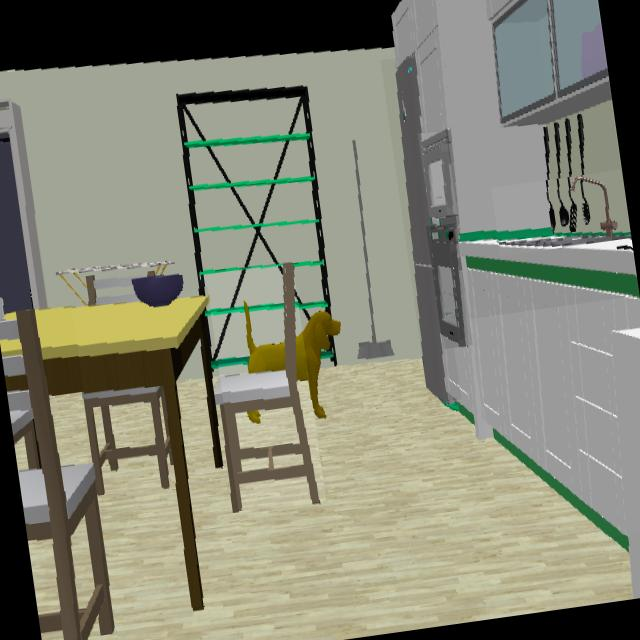cabinet: (392, 0, 612, 232), (466, 270, 640, 535)
chair: (0, 311, 115, 640), (216, 263, 319, 513)
countertop: (460, 228, 638, 295)
fridge: (397, 57, 450, 400)
microwave: (425, 132, 456, 217)
oven: (433, 227, 466, 346)
sink: (500, 175, 629, 247)
table: (37, 299, 222, 607)
